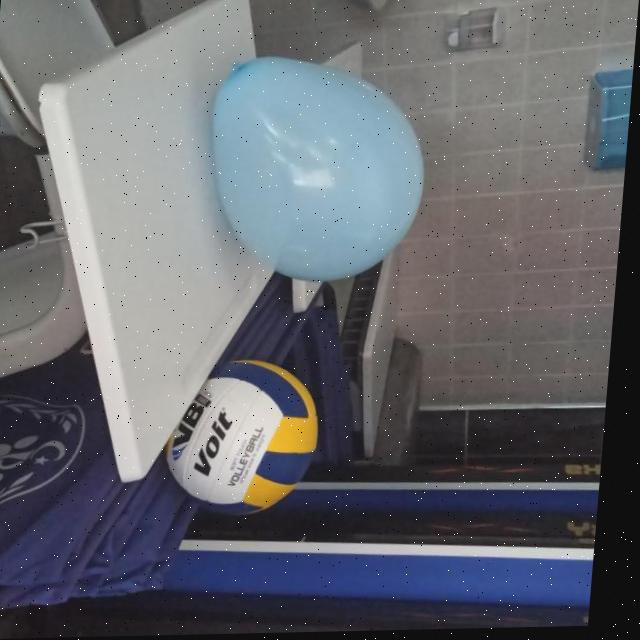balloon: (203, 51, 435, 288)
